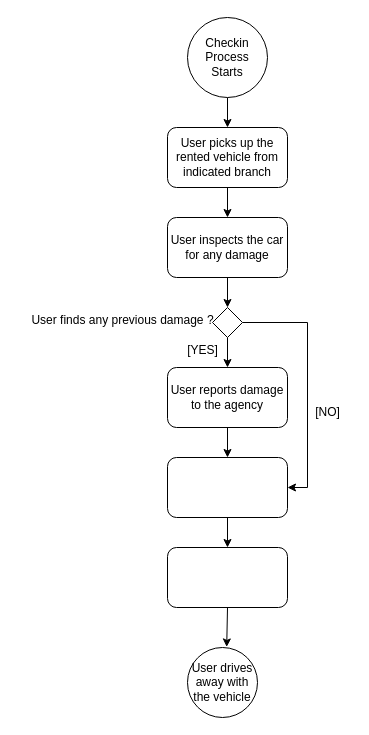
Image size: 369x735. Some labels were removed from this diagram. The centre of each missing label's shape, as x and y in pixels:
"User pays for a deposit" belongs at point (227, 577).
"User signs the rental agreement electronically" belongs at point (227, 487).
